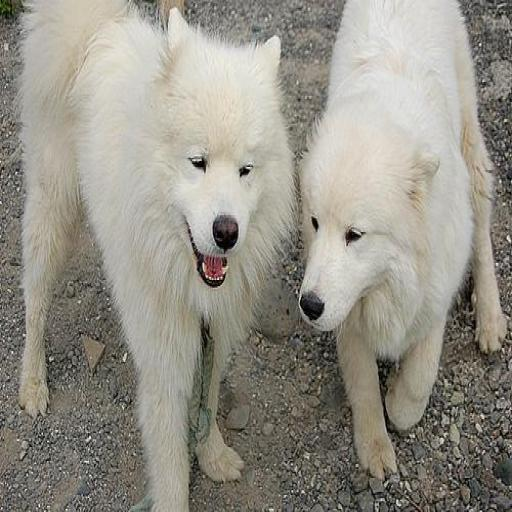dog_face: (154, 14, 282, 289), (293, 123, 436, 330)
